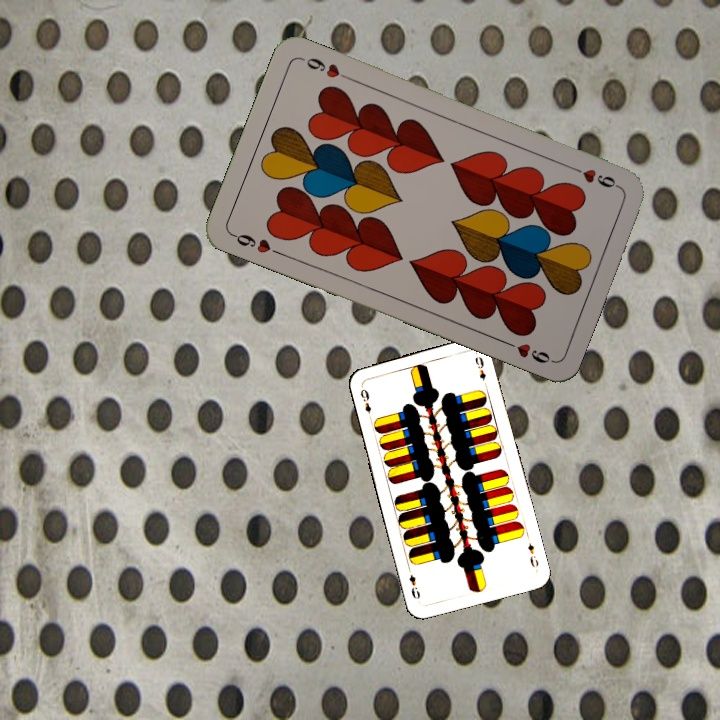E9: (356, 385, 374, 421), (524, 539, 541, 572)
H9: (566, 162, 622, 192), (228, 229, 284, 258)
